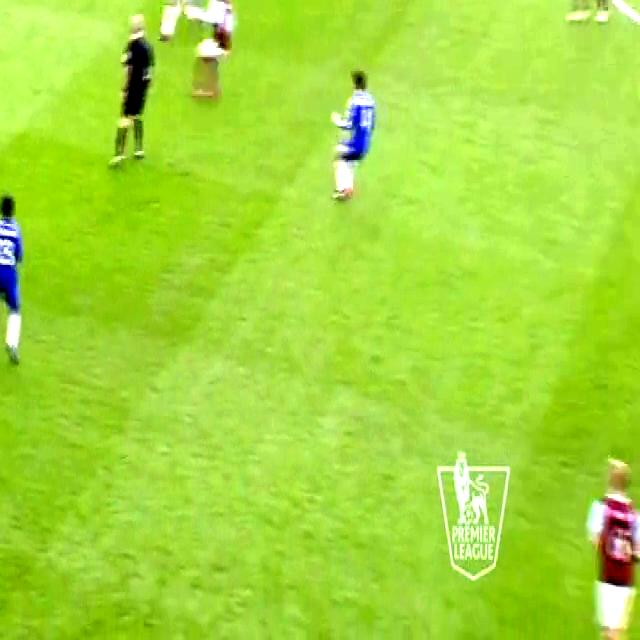referee: (113, 11, 158, 174)
soccer-player: (580, 431, 640, 640), (322, 57, 378, 210), (182, 0, 239, 103), (0, 181, 31, 370), (561, 0, 619, 30), (165, 0, 210, 27)
